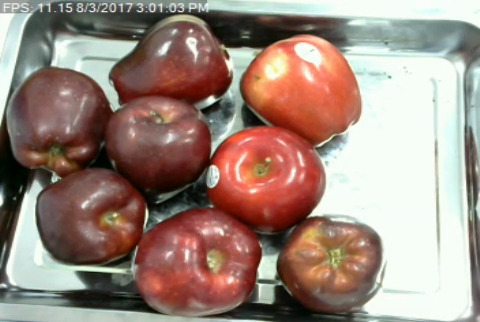Apple: (238, 30, 364, 148), (130, 205, 261, 318), (202, 122, 328, 236), (106, 13, 234, 111), (4, 63, 115, 173), (33, 167, 153, 268), (275, 211, 387, 316), (99, 92, 214, 194)
